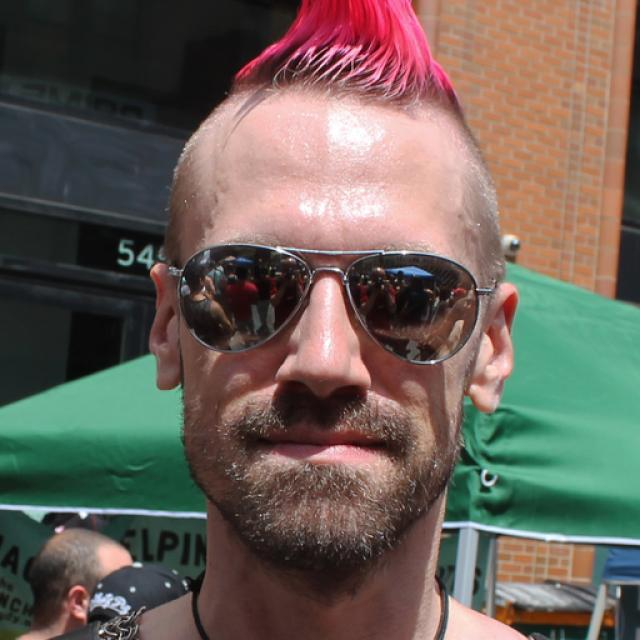happy: (176, 106, 475, 560)
